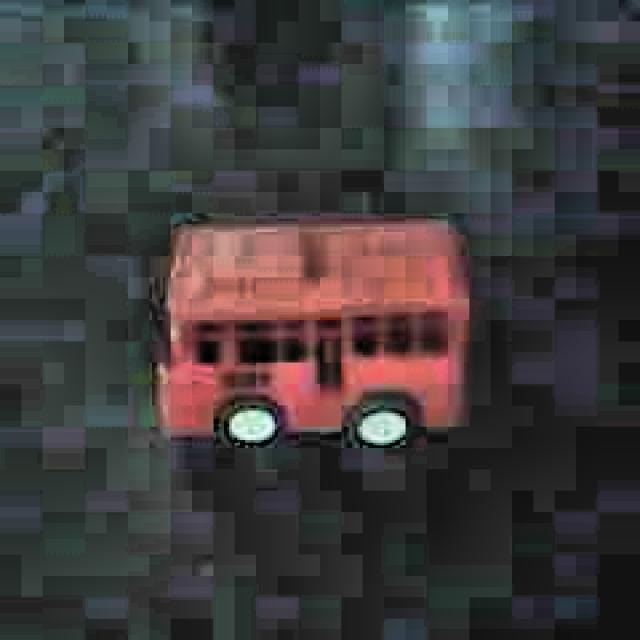bus: (152, 204, 476, 447)
